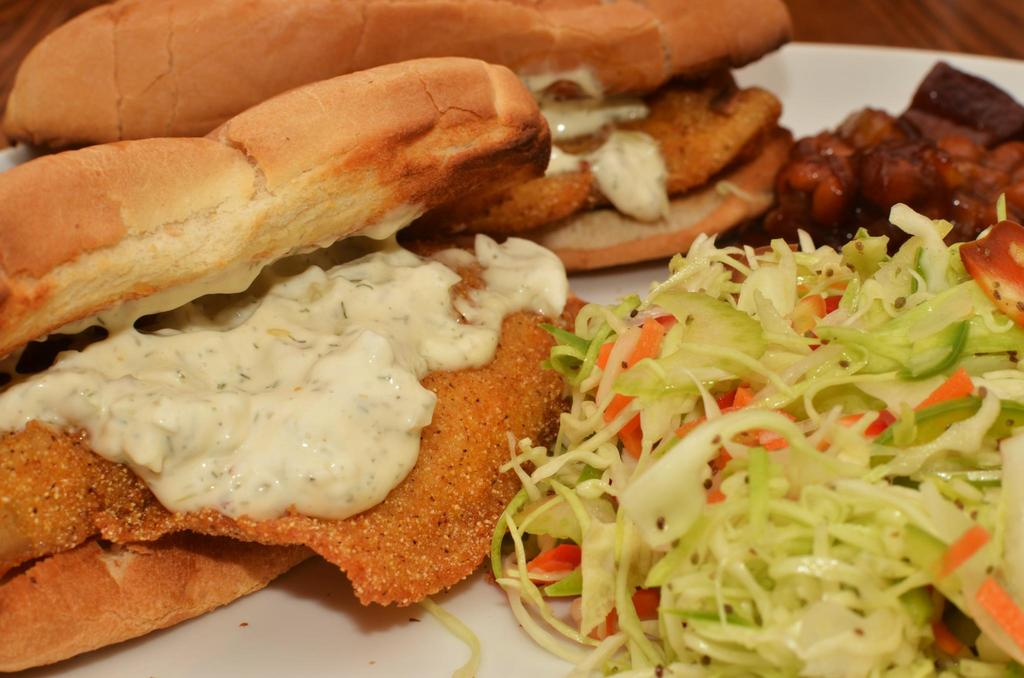Hamburger: (0, 58, 592, 672), (2, 0, 794, 270)
